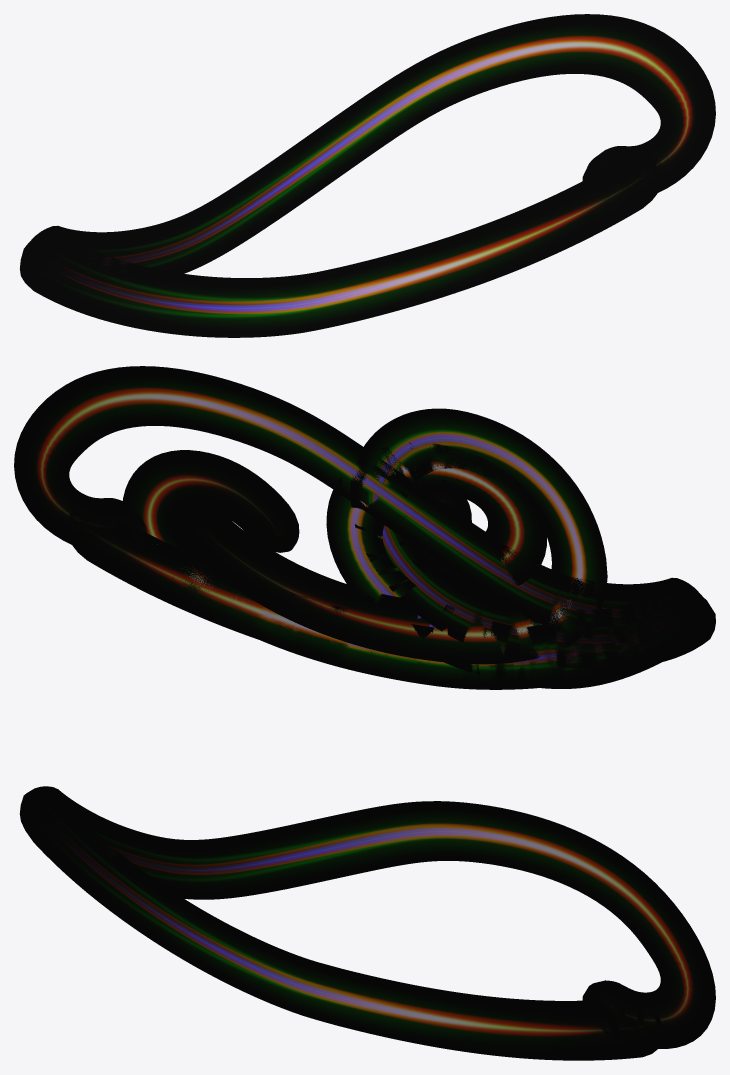
The model's file is SM_VFX_CuteWindPack.fbx.
3 views of the same model, one above another, from view 1: azimuth 30°, elevation 25°; view 2: azimuth 150°, elevation 25°; view 3: azimuth 330°, elevation 25° (orthographic).
Visible parts, largest first — view 1: Wind05, Wind02; view 2: Wind01, Wind05, Wind04, Wind02, Wind03; view 3: Wind05, Wind02.
Part boxes in pixels (<box>): Wind05: <box>21,14,715,290</box>; Wind02: <box>20,153,661,337</box>; Wind01: <box>176,408,715,669</box>; Wind05: <box>14,366,709,643</box>; Wind04: <box>122,450,711,689</box>; Wind02: <box>68,505,709,689</box>; Wind03: <box>326,442,708,688</box>; Wind05: <box>20,786,715,1048</box>; Wind02: <box>19,791,661,1060</box>.
Size of the model in its own units: 1548 by 604 by 9.78e-05.
